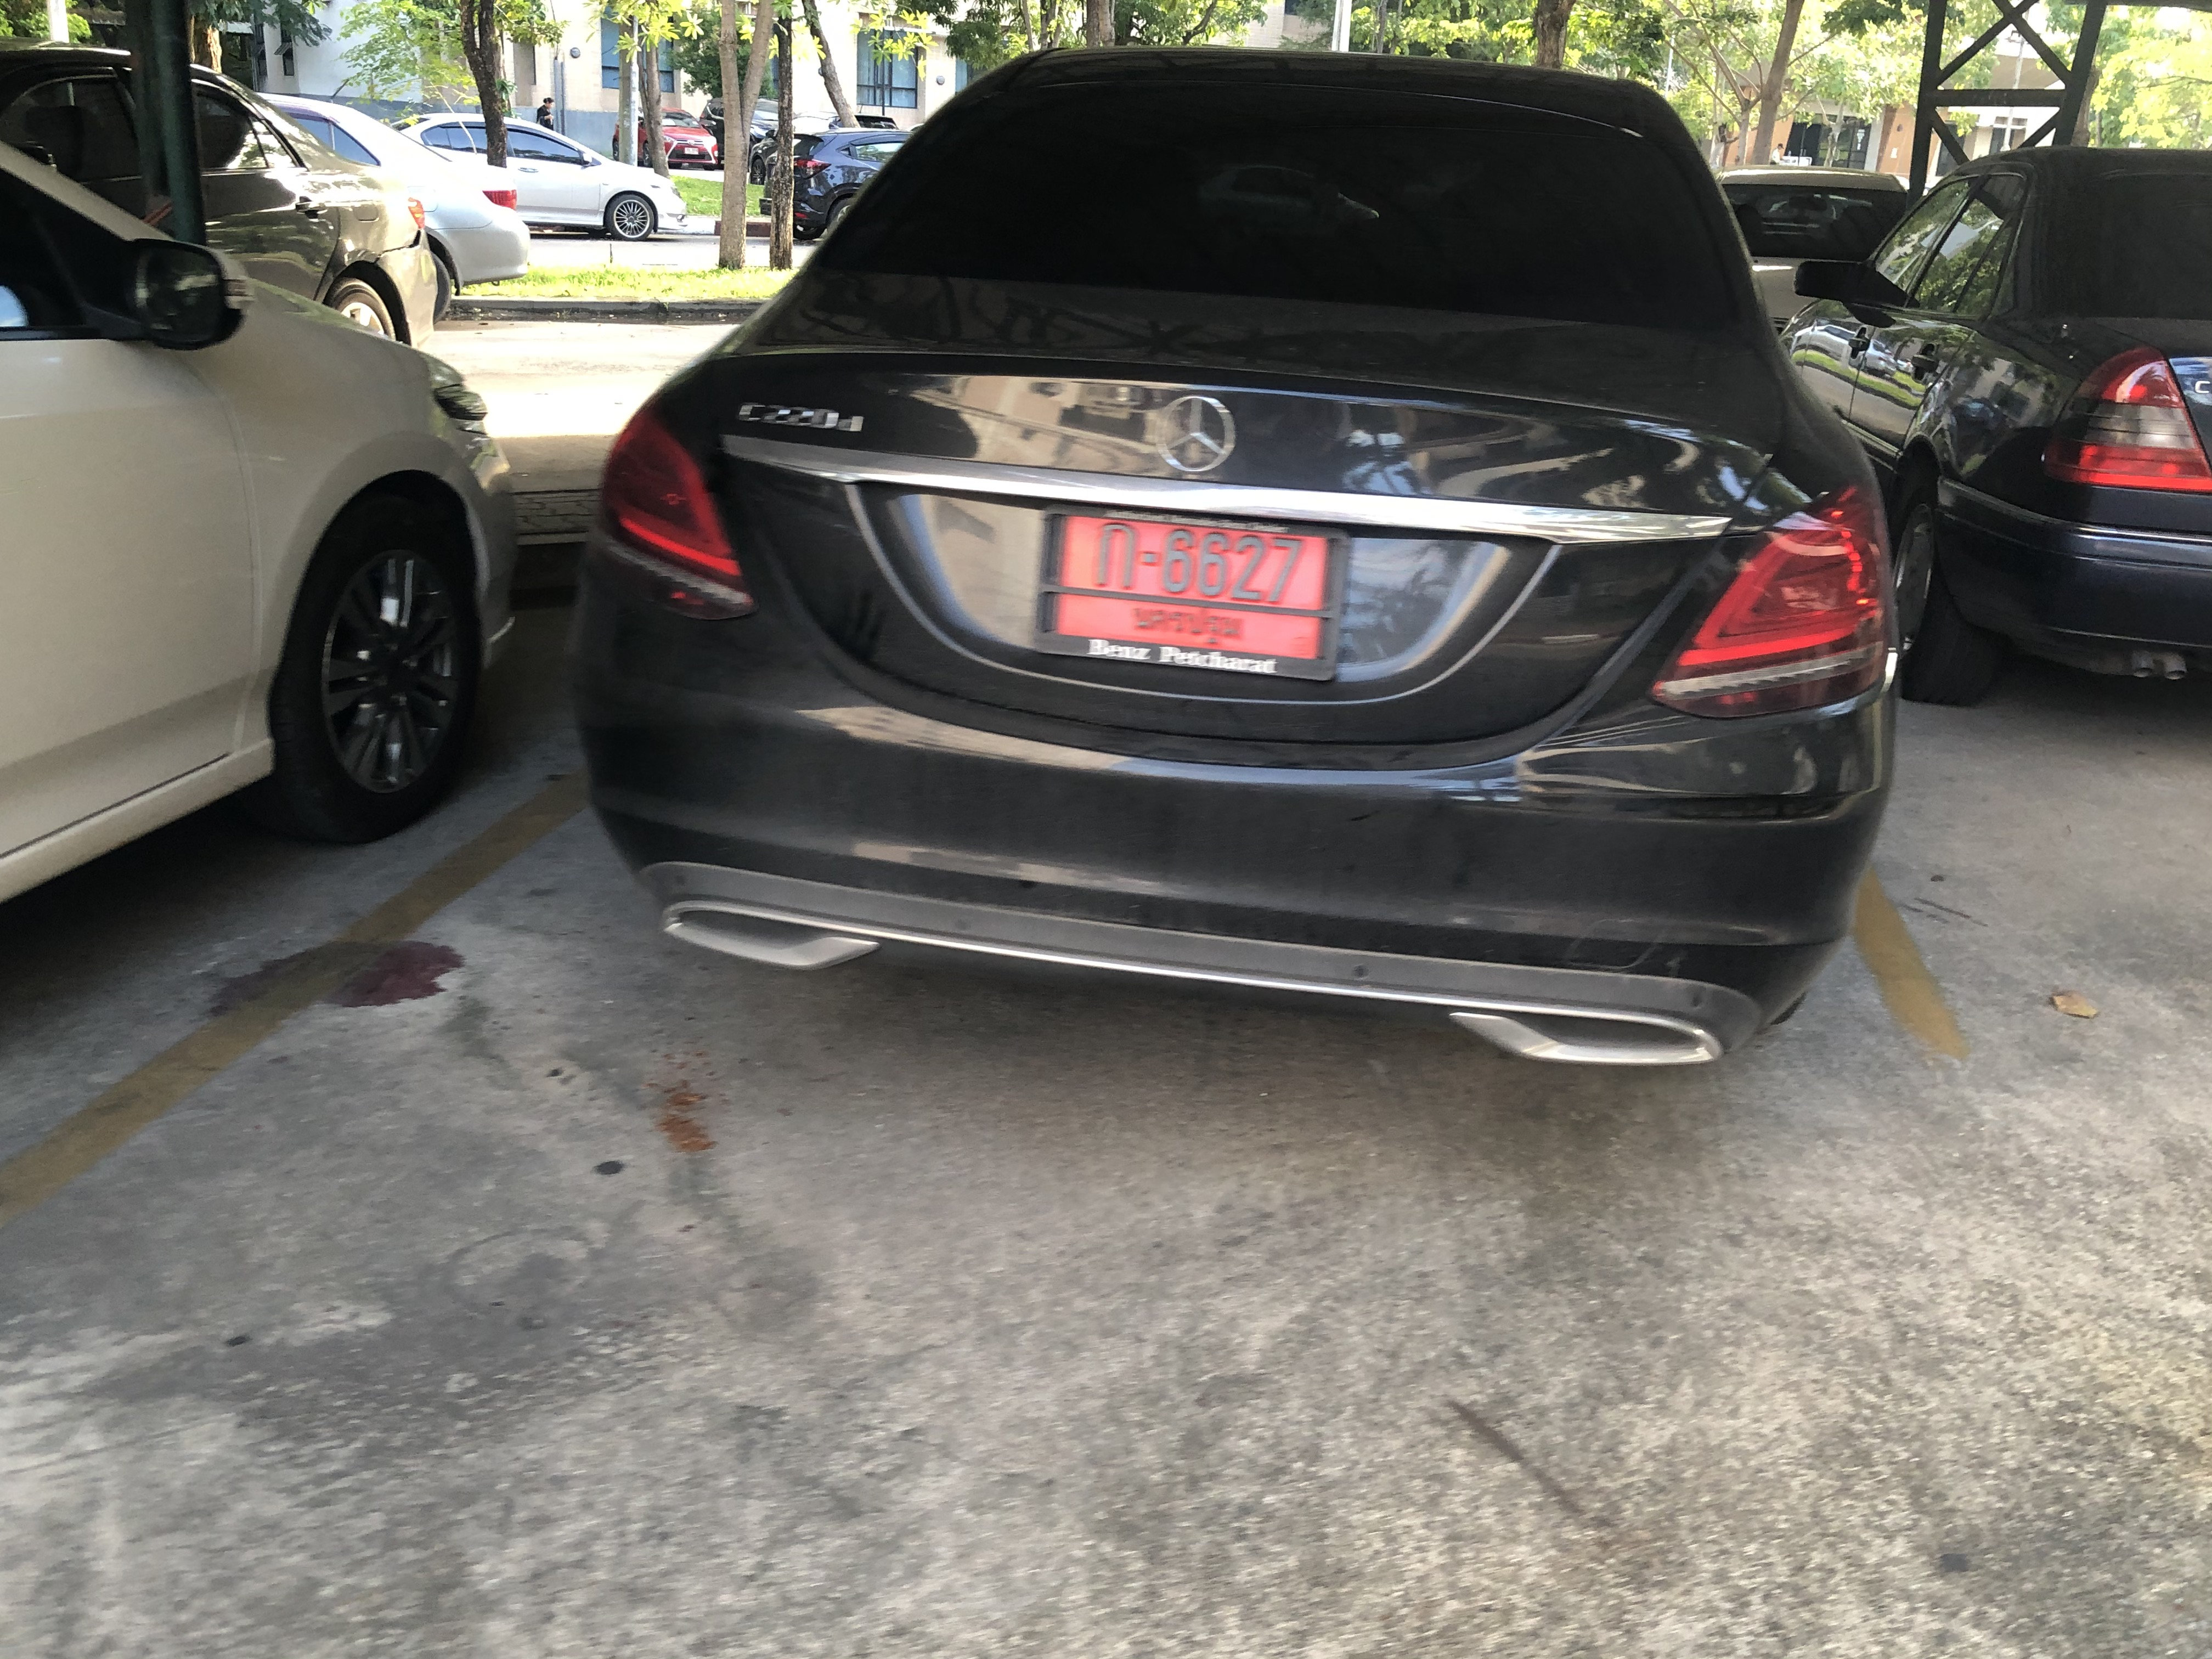in: (1059, 514, 1332, 662)
out: (1028, 497, 1357, 687)
